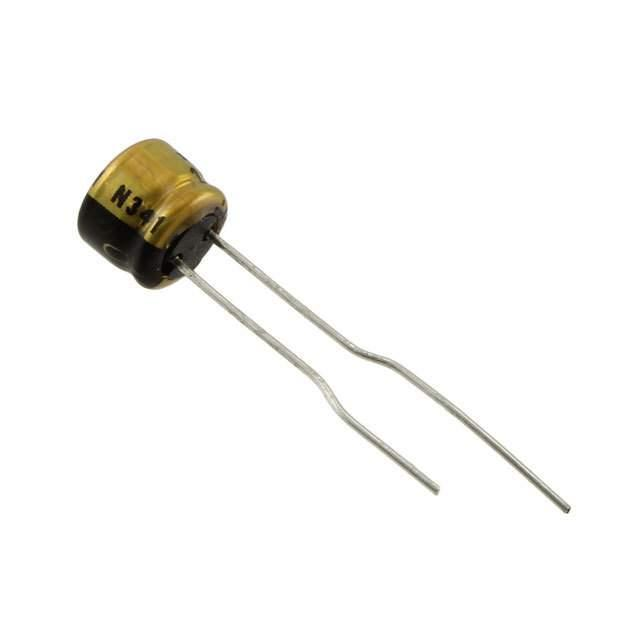Resistor: (77, 139, 228, 291)
